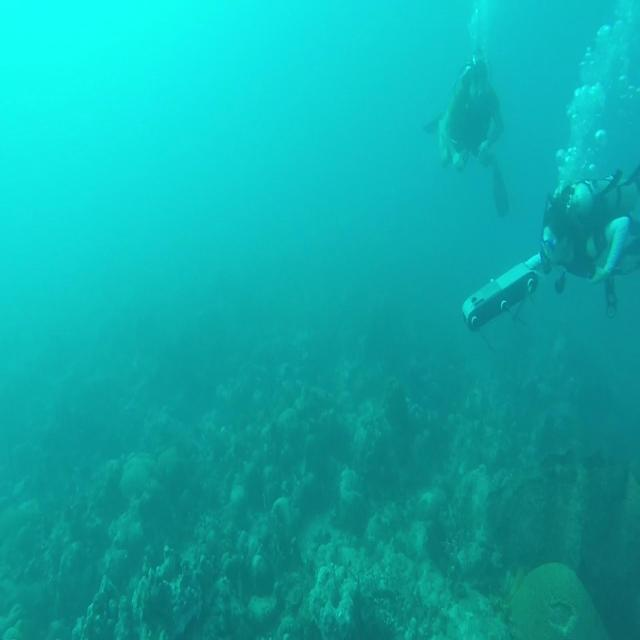human: (540, 162, 639, 318), (425, 50, 510, 218)
